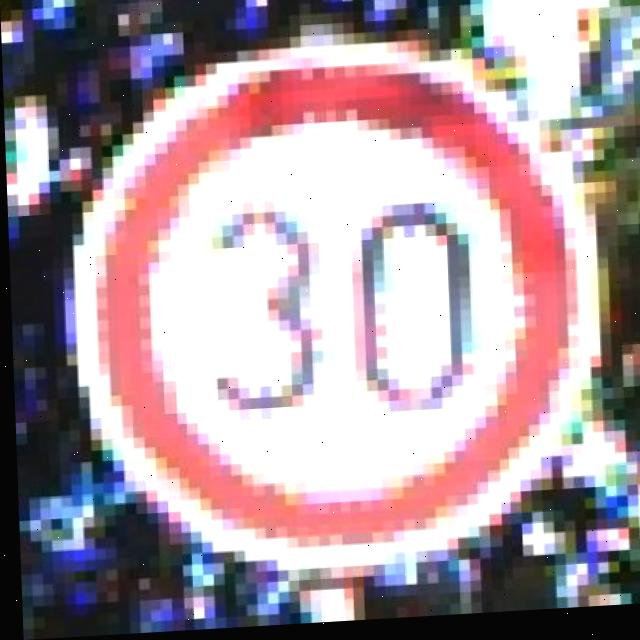Speed limit 30: (75, 44, 583, 579)
